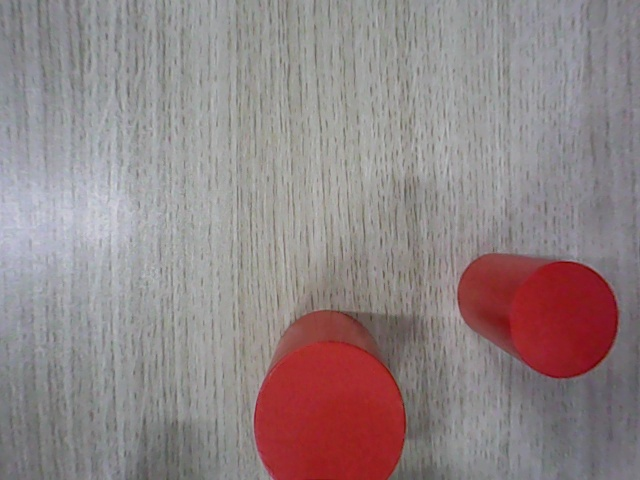upside of cylinder: (253, 340, 406, 479), (509, 262, 620, 379)
